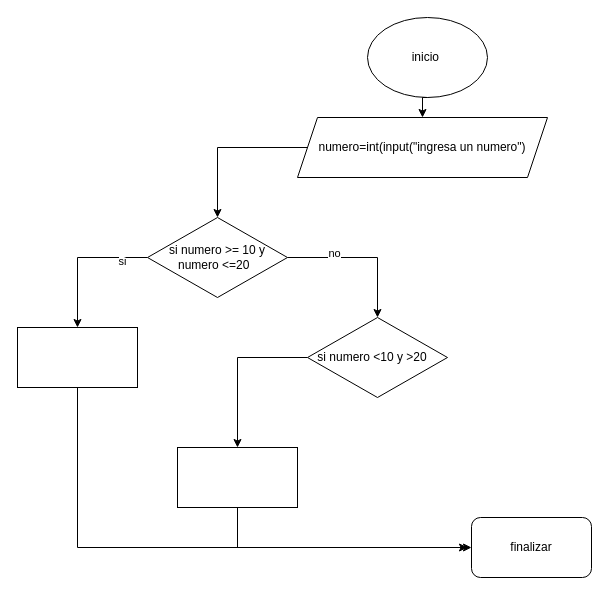
Image size: 609x595. Some labels were removed from this diagram. The centre of each missing label's shape, as x and y in pixels:
"esta entre 10 y 20" belongs at [77,357].
"no esta entre el 10 y 20" belongs at [237,477].
